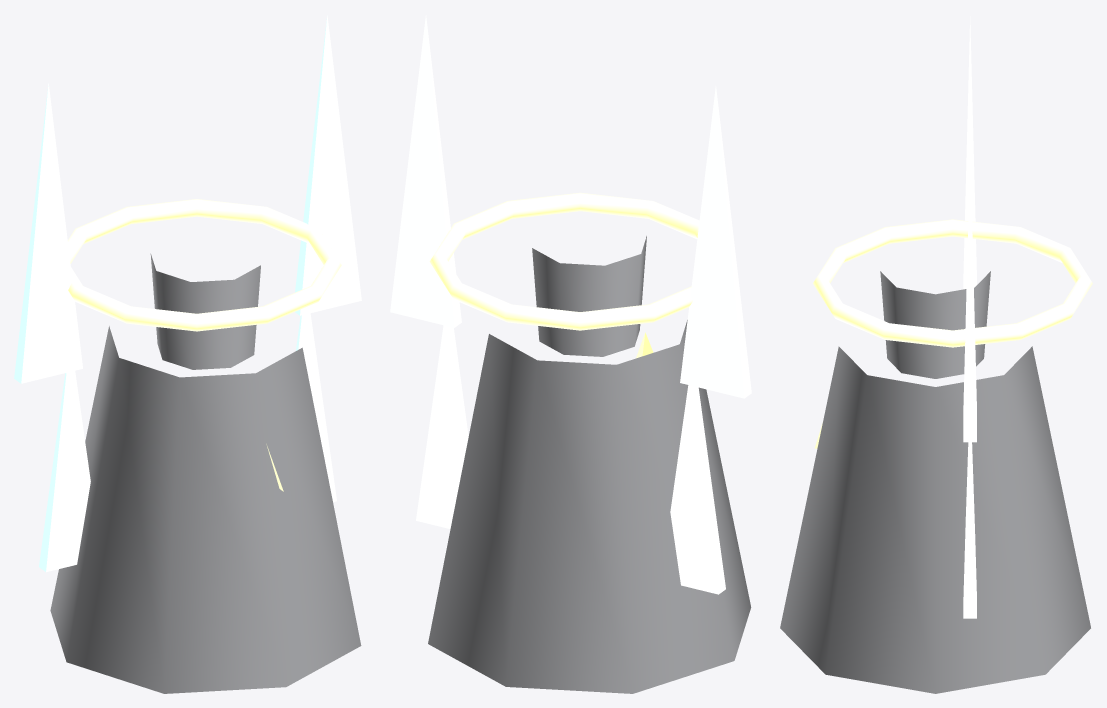
File: moksha_seraph.glb
3 views of the same model, side by side, from view 1: azimuth 30°, elevation 25°; view 2: azimuth 150°, elevation 25°; view 3: azimuth 270°, elevation 25° (orthographic). The views are drawn at different scales.
Visible parts, largest first — view 1: RootNode; view 2: RootNode; view 3: RootNode.
Part boxes in pixels (left/top/right/bottom): RootNode: left=14, top=15, right=361, bottom=693; RootNode: left=390, top=15, right=751, bottom=693; RootNode: left=780, top=16, right=1092, bottom=693.
Bounding box in the file's own units: 1.1 × 1.75 × 0.905.
